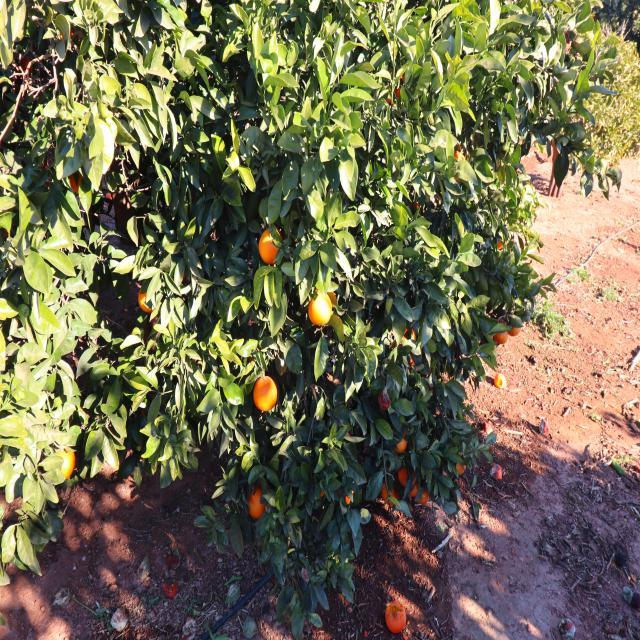Jeruk Sudah Matang: (259, 228, 283, 265), (308, 292, 332, 326), (253, 376, 277, 410), (57, 445, 76, 479), (249, 484, 267, 518), (380, 481, 400, 506), (396, 468, 416, 487), (138, 286, 150, 314), (70, 170, 82, 194), (397, 433, 410, 451), (494, 330, 509, 345), (418, 490, 430, 505), (508, 326, 522, 338), (410, 480, 418, 498)
